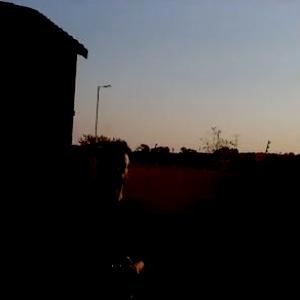follow: (51, 136, 152, 299)
